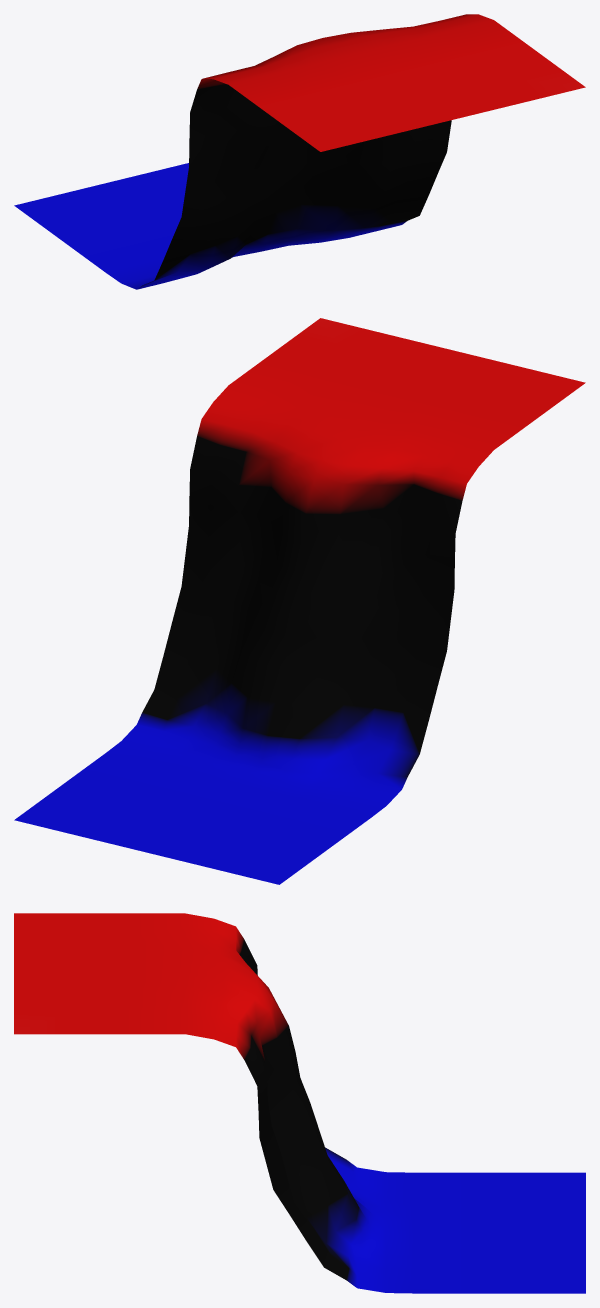
File: RiveCliff00B Foreground.fbx
3 views of the same model, one above another, from view 1: azimuth 30°, elevation 25°; view 2: azimuth 150°, elevation 25°; view 3: azimuth 270°, elevation 25° (orthographic). The views are drawn at different scales.
Parts seen in each view (by area): view 1: RiveCliff00B Foreground; view 2: RiveCliff00B Foreground; view 3: RiveCliff00B Foreground.
Boxes of the visible parts, x1,y1,x2,y2 form: RiveCliff00B Foreground: (14, 14, 585, 289); RiveCliff00B Foreground: (14, 318, 585, 884); RiveCliff00B Foreground: (14, 913, 585, 1293).
Size of the model in its own units: 1 by 1 by 2.
